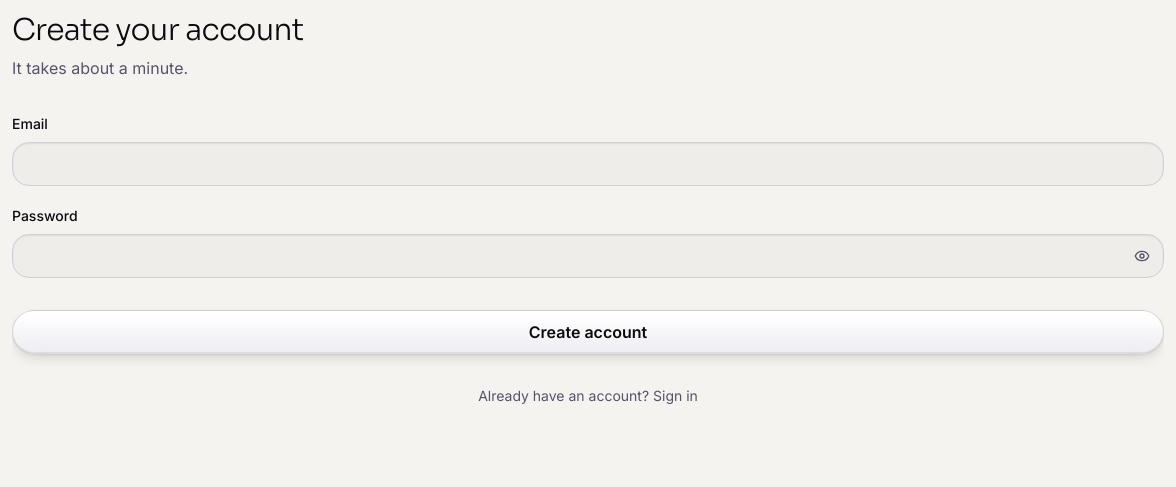
creating an account › an email that already has an account says so and stays on the form
Type "asha@example.com" into the field labelled "Email" at (588, 164), box [12, 142, 1164, 186]
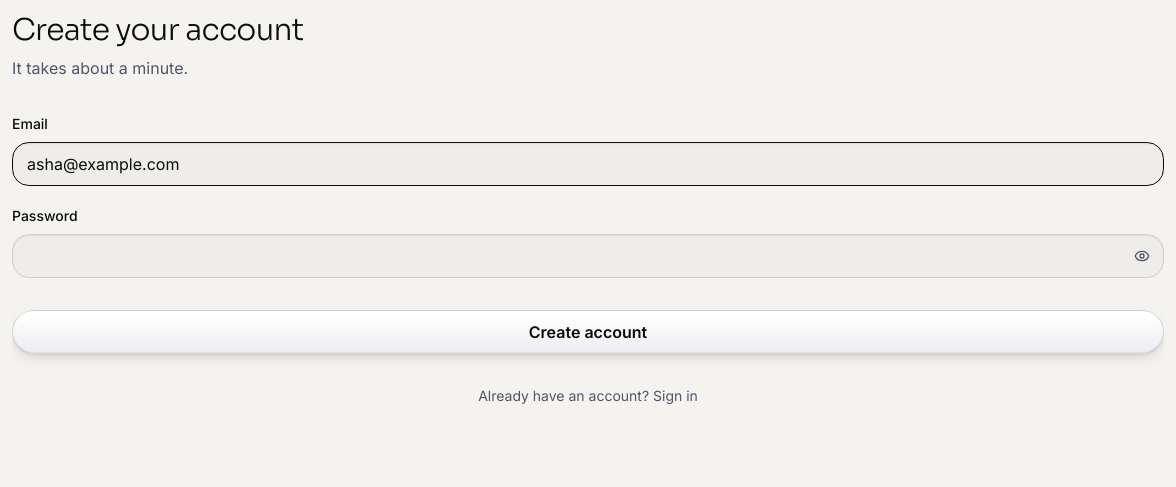
Type "Secret123" into the password field labelled "Password" at (588, 256), box [12, 234, 1164, 278]
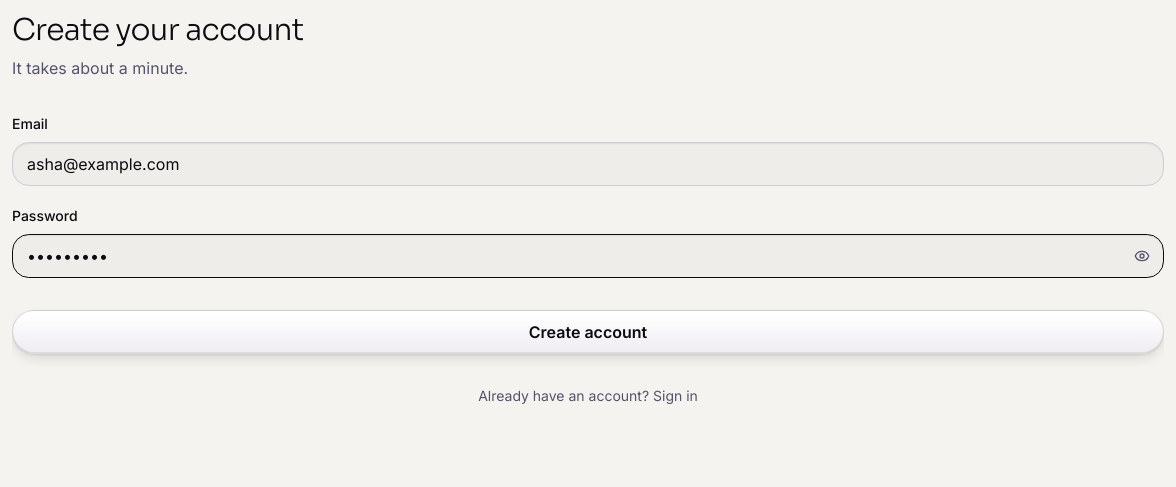
Click the button "Create account" at (588, 332), box [12, 310, 1164, 354]
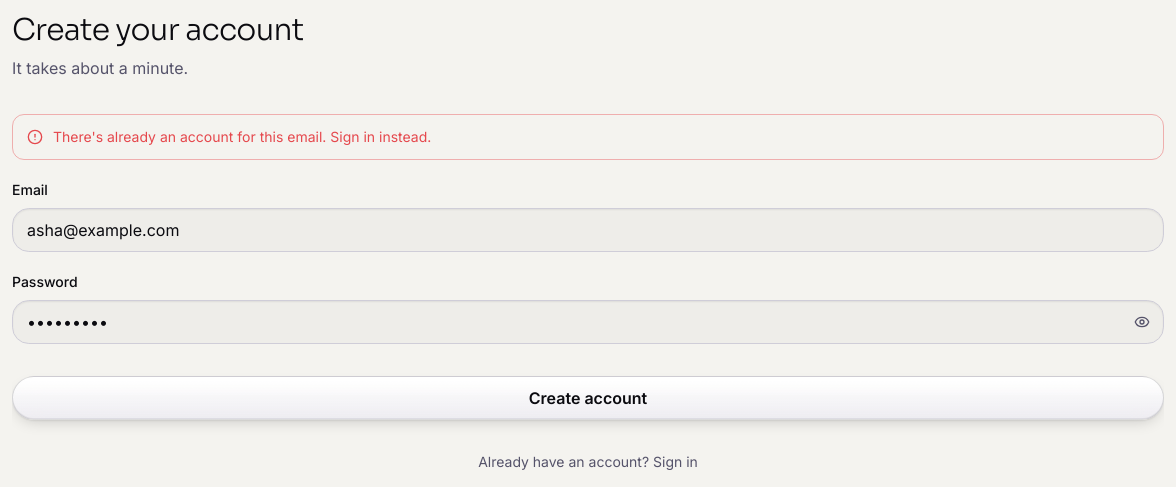
Now the message shows "already an account", box [53, 128, 431, 145]
